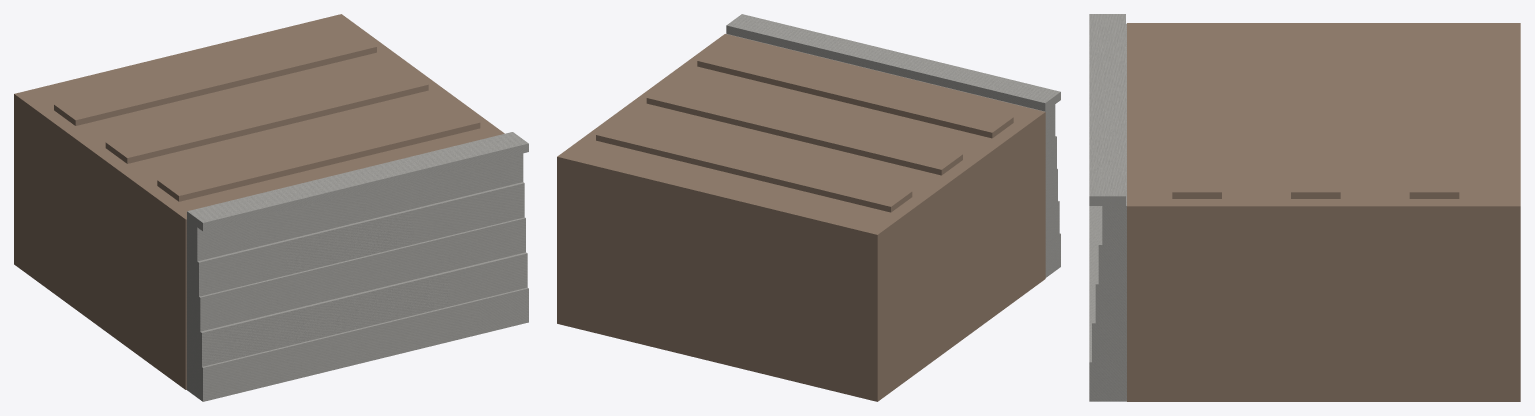
File: andean-terraces-and-stone-village-terrace-corner-cd71b934__38218.glb
The picture shows the model from 3 angles, left to right: view 1: azimuth 30°, elevation 25°; view 2: azimuth 150°, elevation 25°; view 3: azimuth 270°, elevation 25°; orthographic projection. The views are drawn at different scales.
Visible parts, largest first — view 1: terrace-corner-earth, terrace-corner-stone; view 2: terrace-corner-earth, terrace-corner-stone; view 3: terrace-corner-earth, terrace-corner-stone.
Boxes of the visible parts, x1,y1,x2,y2 form: terrace-corner-earth: [14, 14, 504, 389]; terrace-corner-stone: [186, 132, 528, 401]; terrace-corner-earth: [557, 34, 1045, 401]; terrace-corner-stone: [726, 14, 1060, 277]; terrace-corner-earth: [1127, 23, 1520, 401]; terrace-corner-stone: [1089, 14, 1126, 401].
Size of the model in its own units: 4.02 by 2.1 by 4.
Materials: 2 (1 with a texture image).
